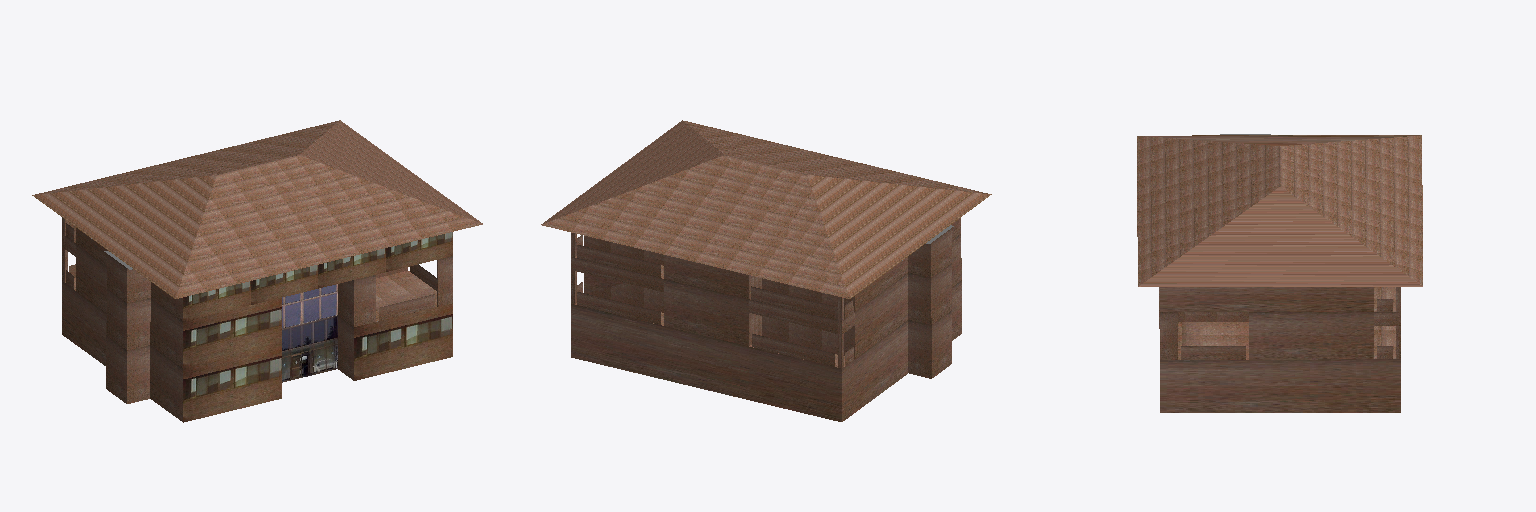
3 renders of one model, left to right at view 1: azimuth 30°, elevation 25°; view 2: azimuth 150°, elevation 25°; view 3: azimuth 270°, elevation 25°, orthographic.
Parts seen in each view (by area): view 1: VMtl1400, VMtl1759, VMtl1757, VMtl1731; view 2: VMtl1400; view 3: VMtl1400.
Part boxes in pixels (x1,y1,x2,y2): VMtl1400: (32,120,482,421); VMtl1759: (183,232,452,422); VMtl1757: (282,315,337,382); VMtl1731: (282,284,337,328); VMtl1400: (541,120,991,421); VMtl1400: (1137,135,1422,412).
Size of the model in its own units: 39.13 by 21.64 by 30.97.
Materials: 6 (5 with a texture image).